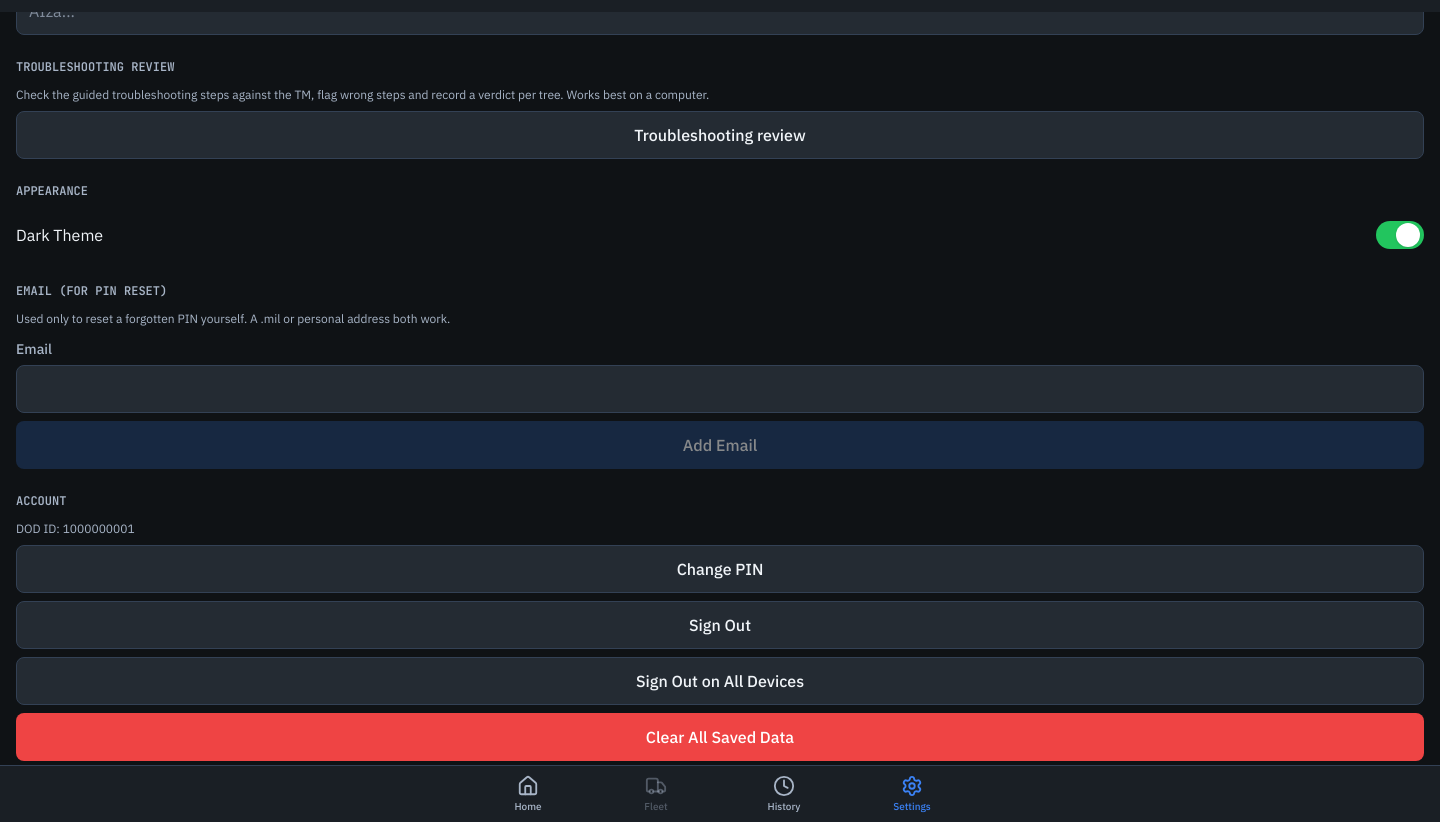
Test: Settings → Email › adds, then removes, an email
This screenshot has width=1440, height=822.
(page scrolled)
Check: the element with test id "email-settings" is shown, box [16,311,1424,469]
In the field labelled "Email": x=720, y=389 [16,365,1424,413], type "not-an-email"
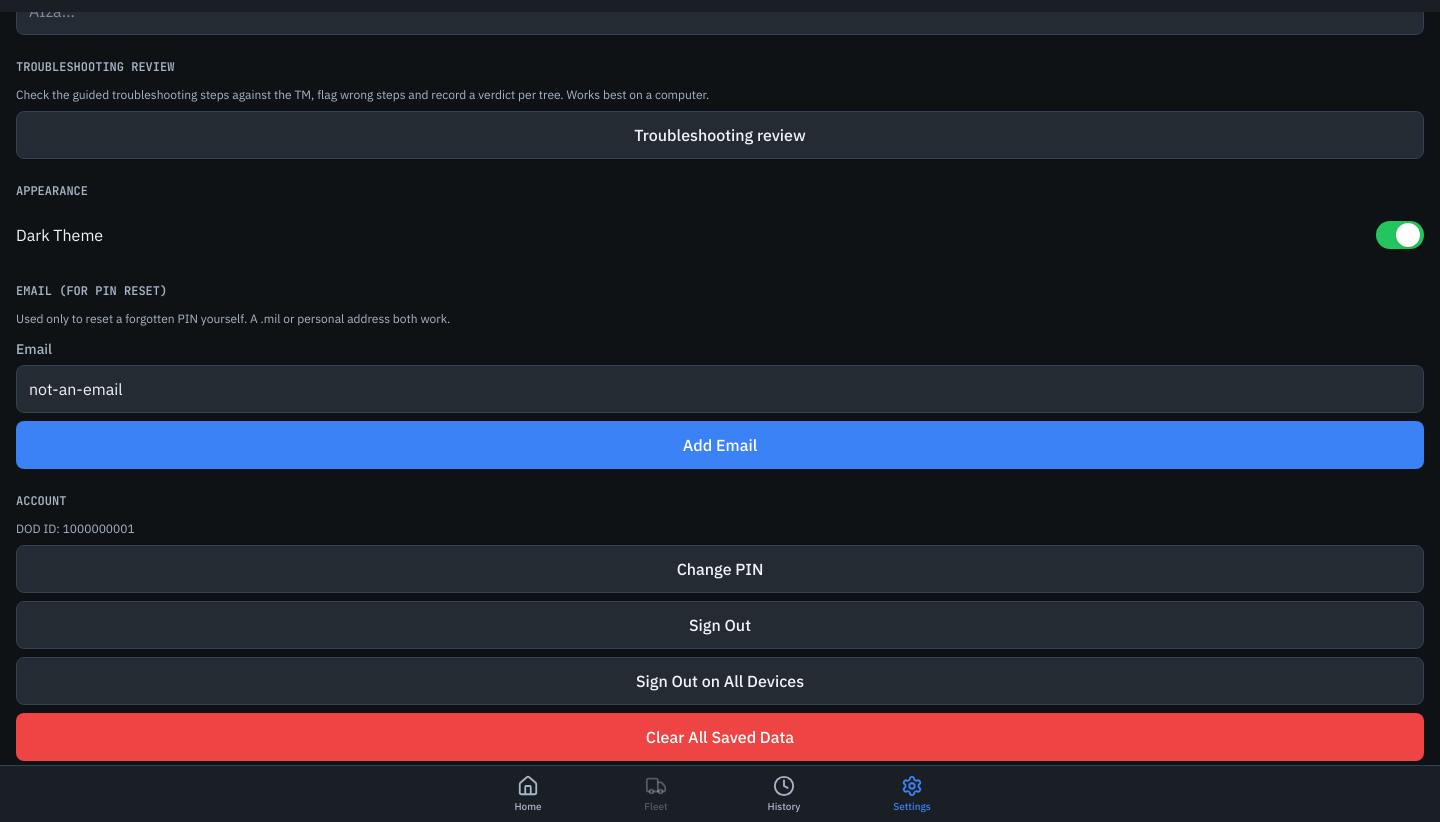
Click the button "Add Email": x=720, y=445 [16,421,1424,469]
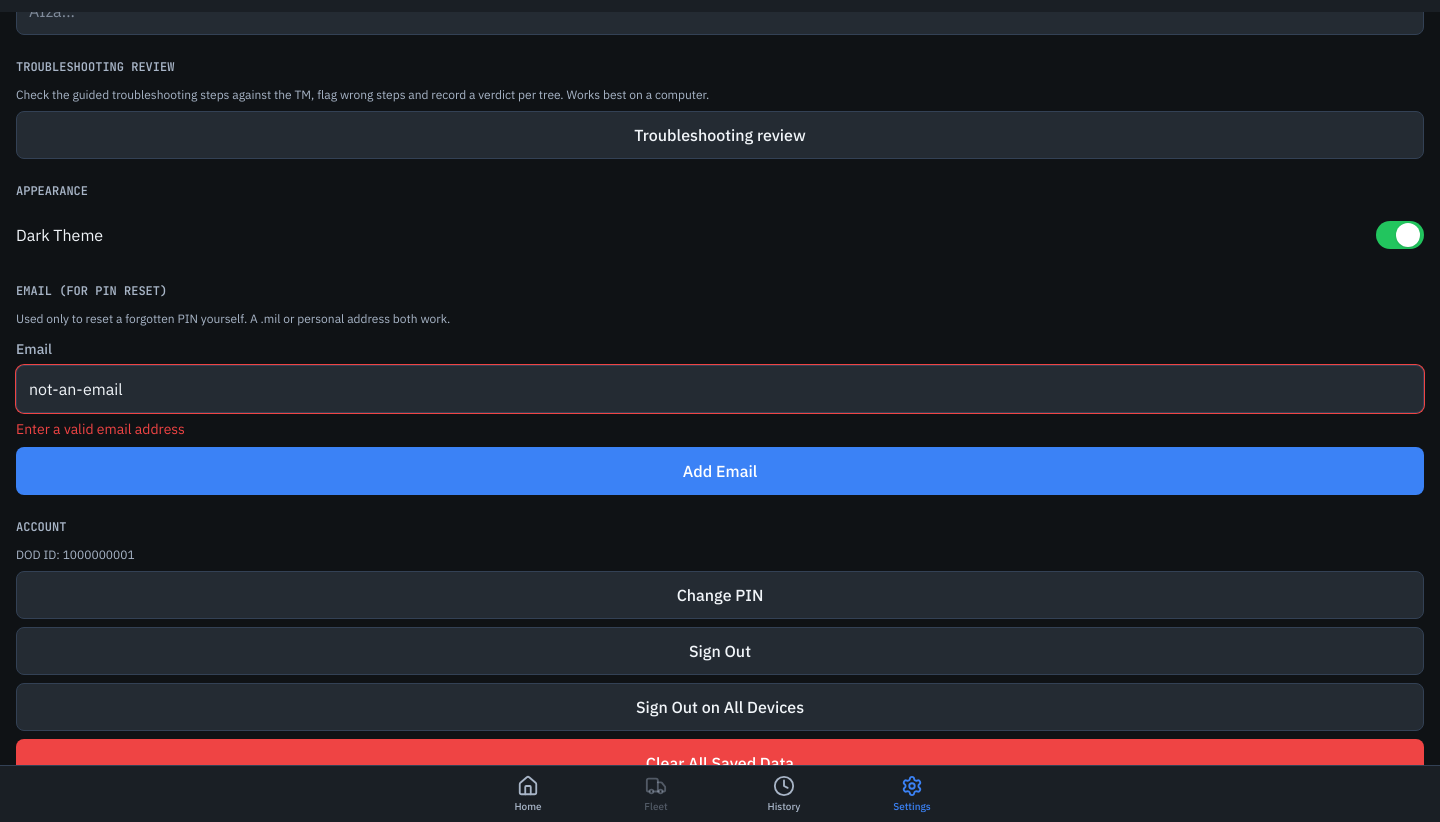
Check: the text "Enter a valid email address" is shown, box [16,420,185,438]
Replace the text in the field labelled "Email" with "soldier@example.com": x=720, y=389 [16,365,1424,413]
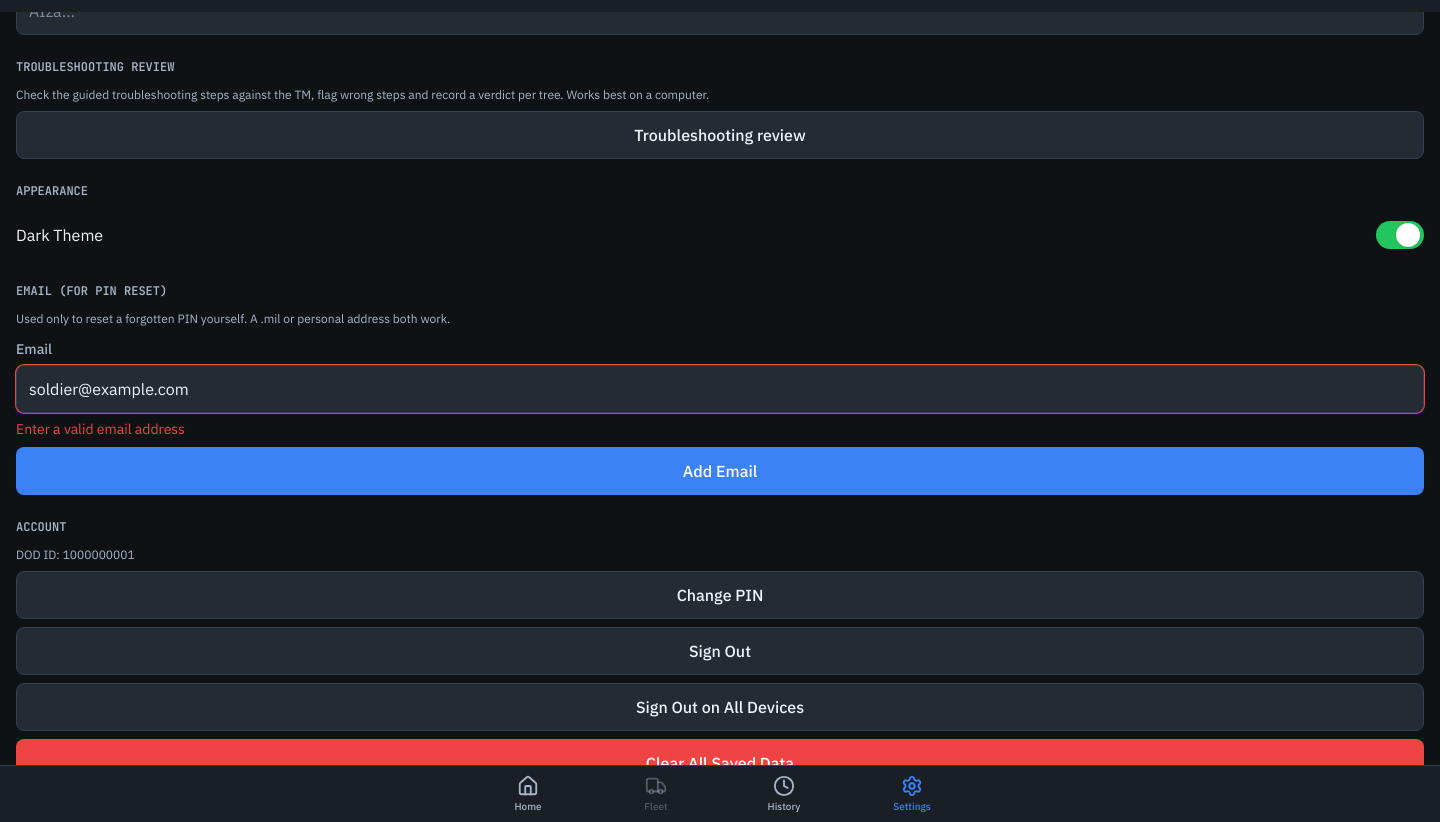
Click the button "Add Email": x=720, y=471 [16,447,1424,495]
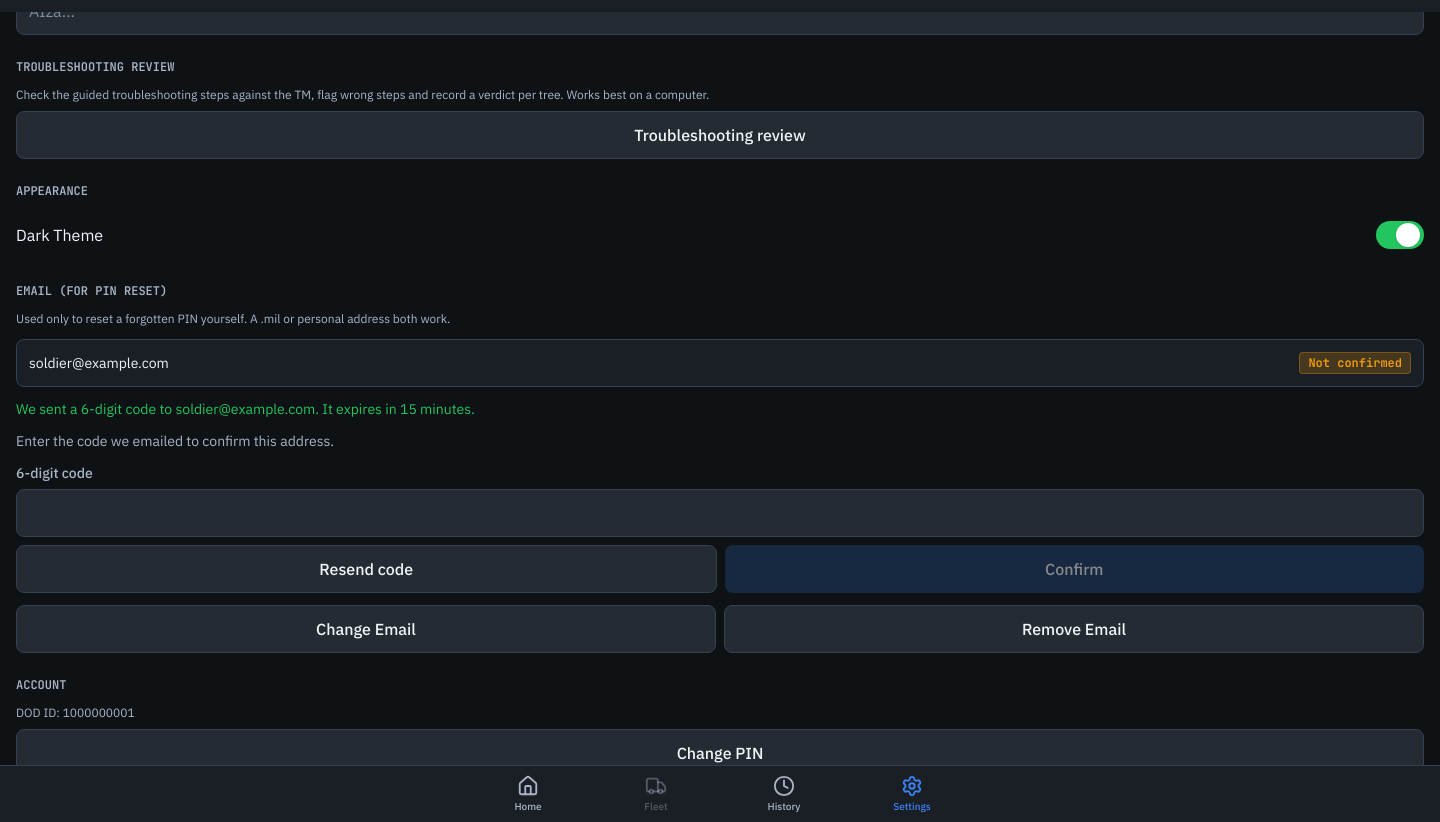
Check: the element with test id "email-settings" shows "Not confirmed", box [1308,355,1402,371]
Check: the text "soldier@example.com" is shown, box [29,353,169,373]
Click the button "Remove Email": x=1074, y=629 [724,605,1424,653]
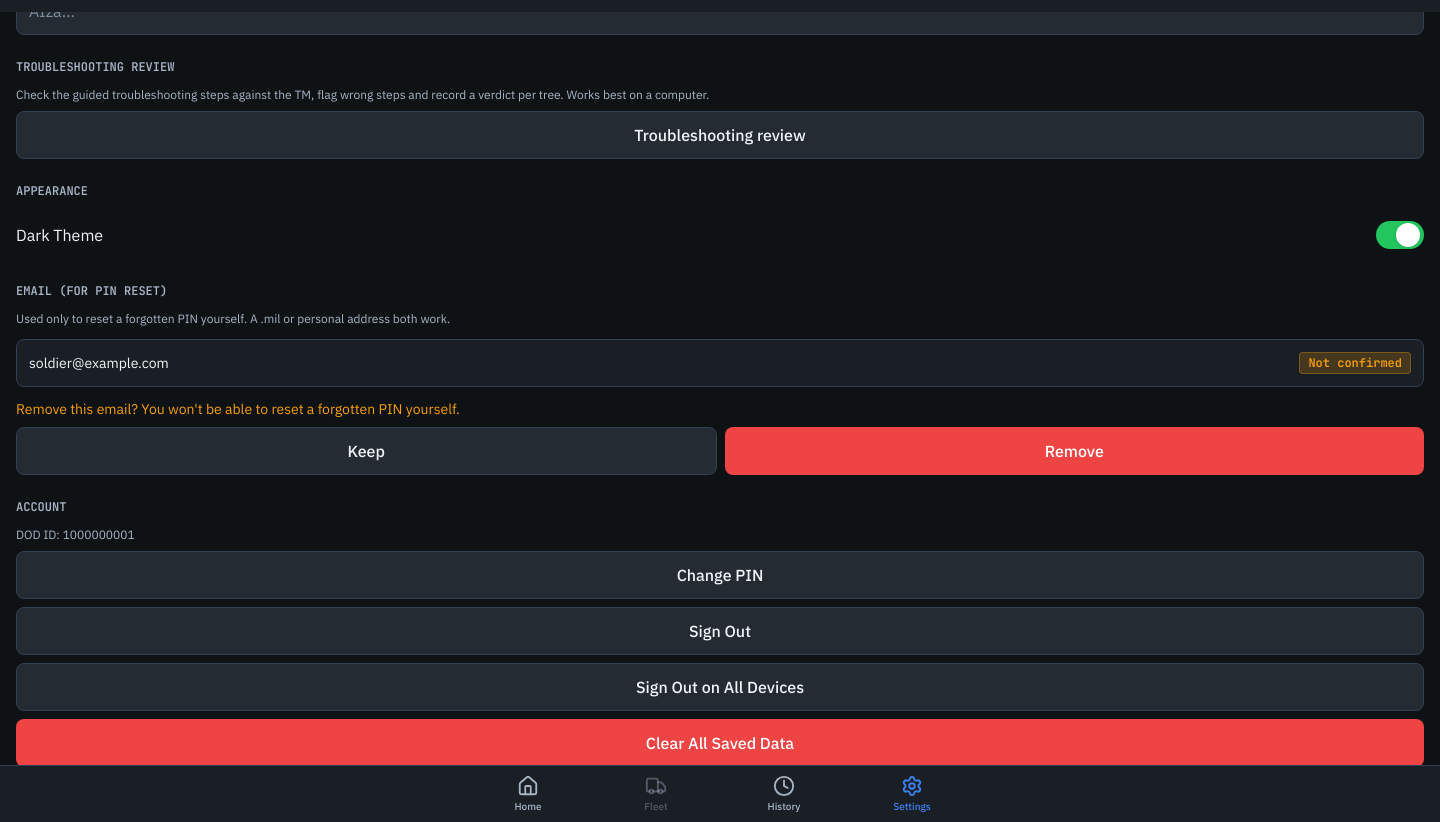
Click the button "Remove": x=1074, y=451 [724,427,1424,475]
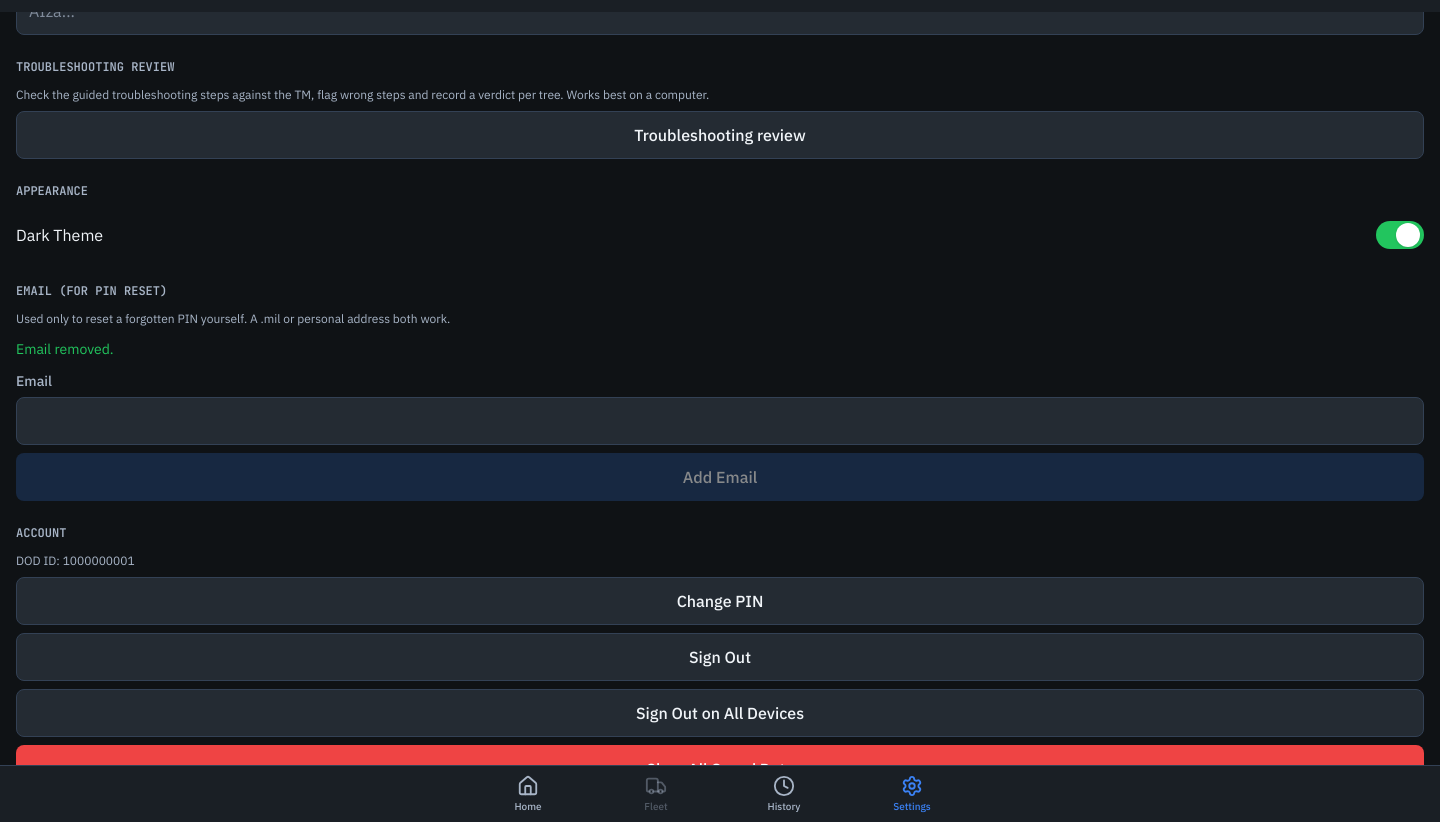
Check: the text "Email removed." is shown, box [16,340,114,358]
Check: the text with test id "email-current" is gone
